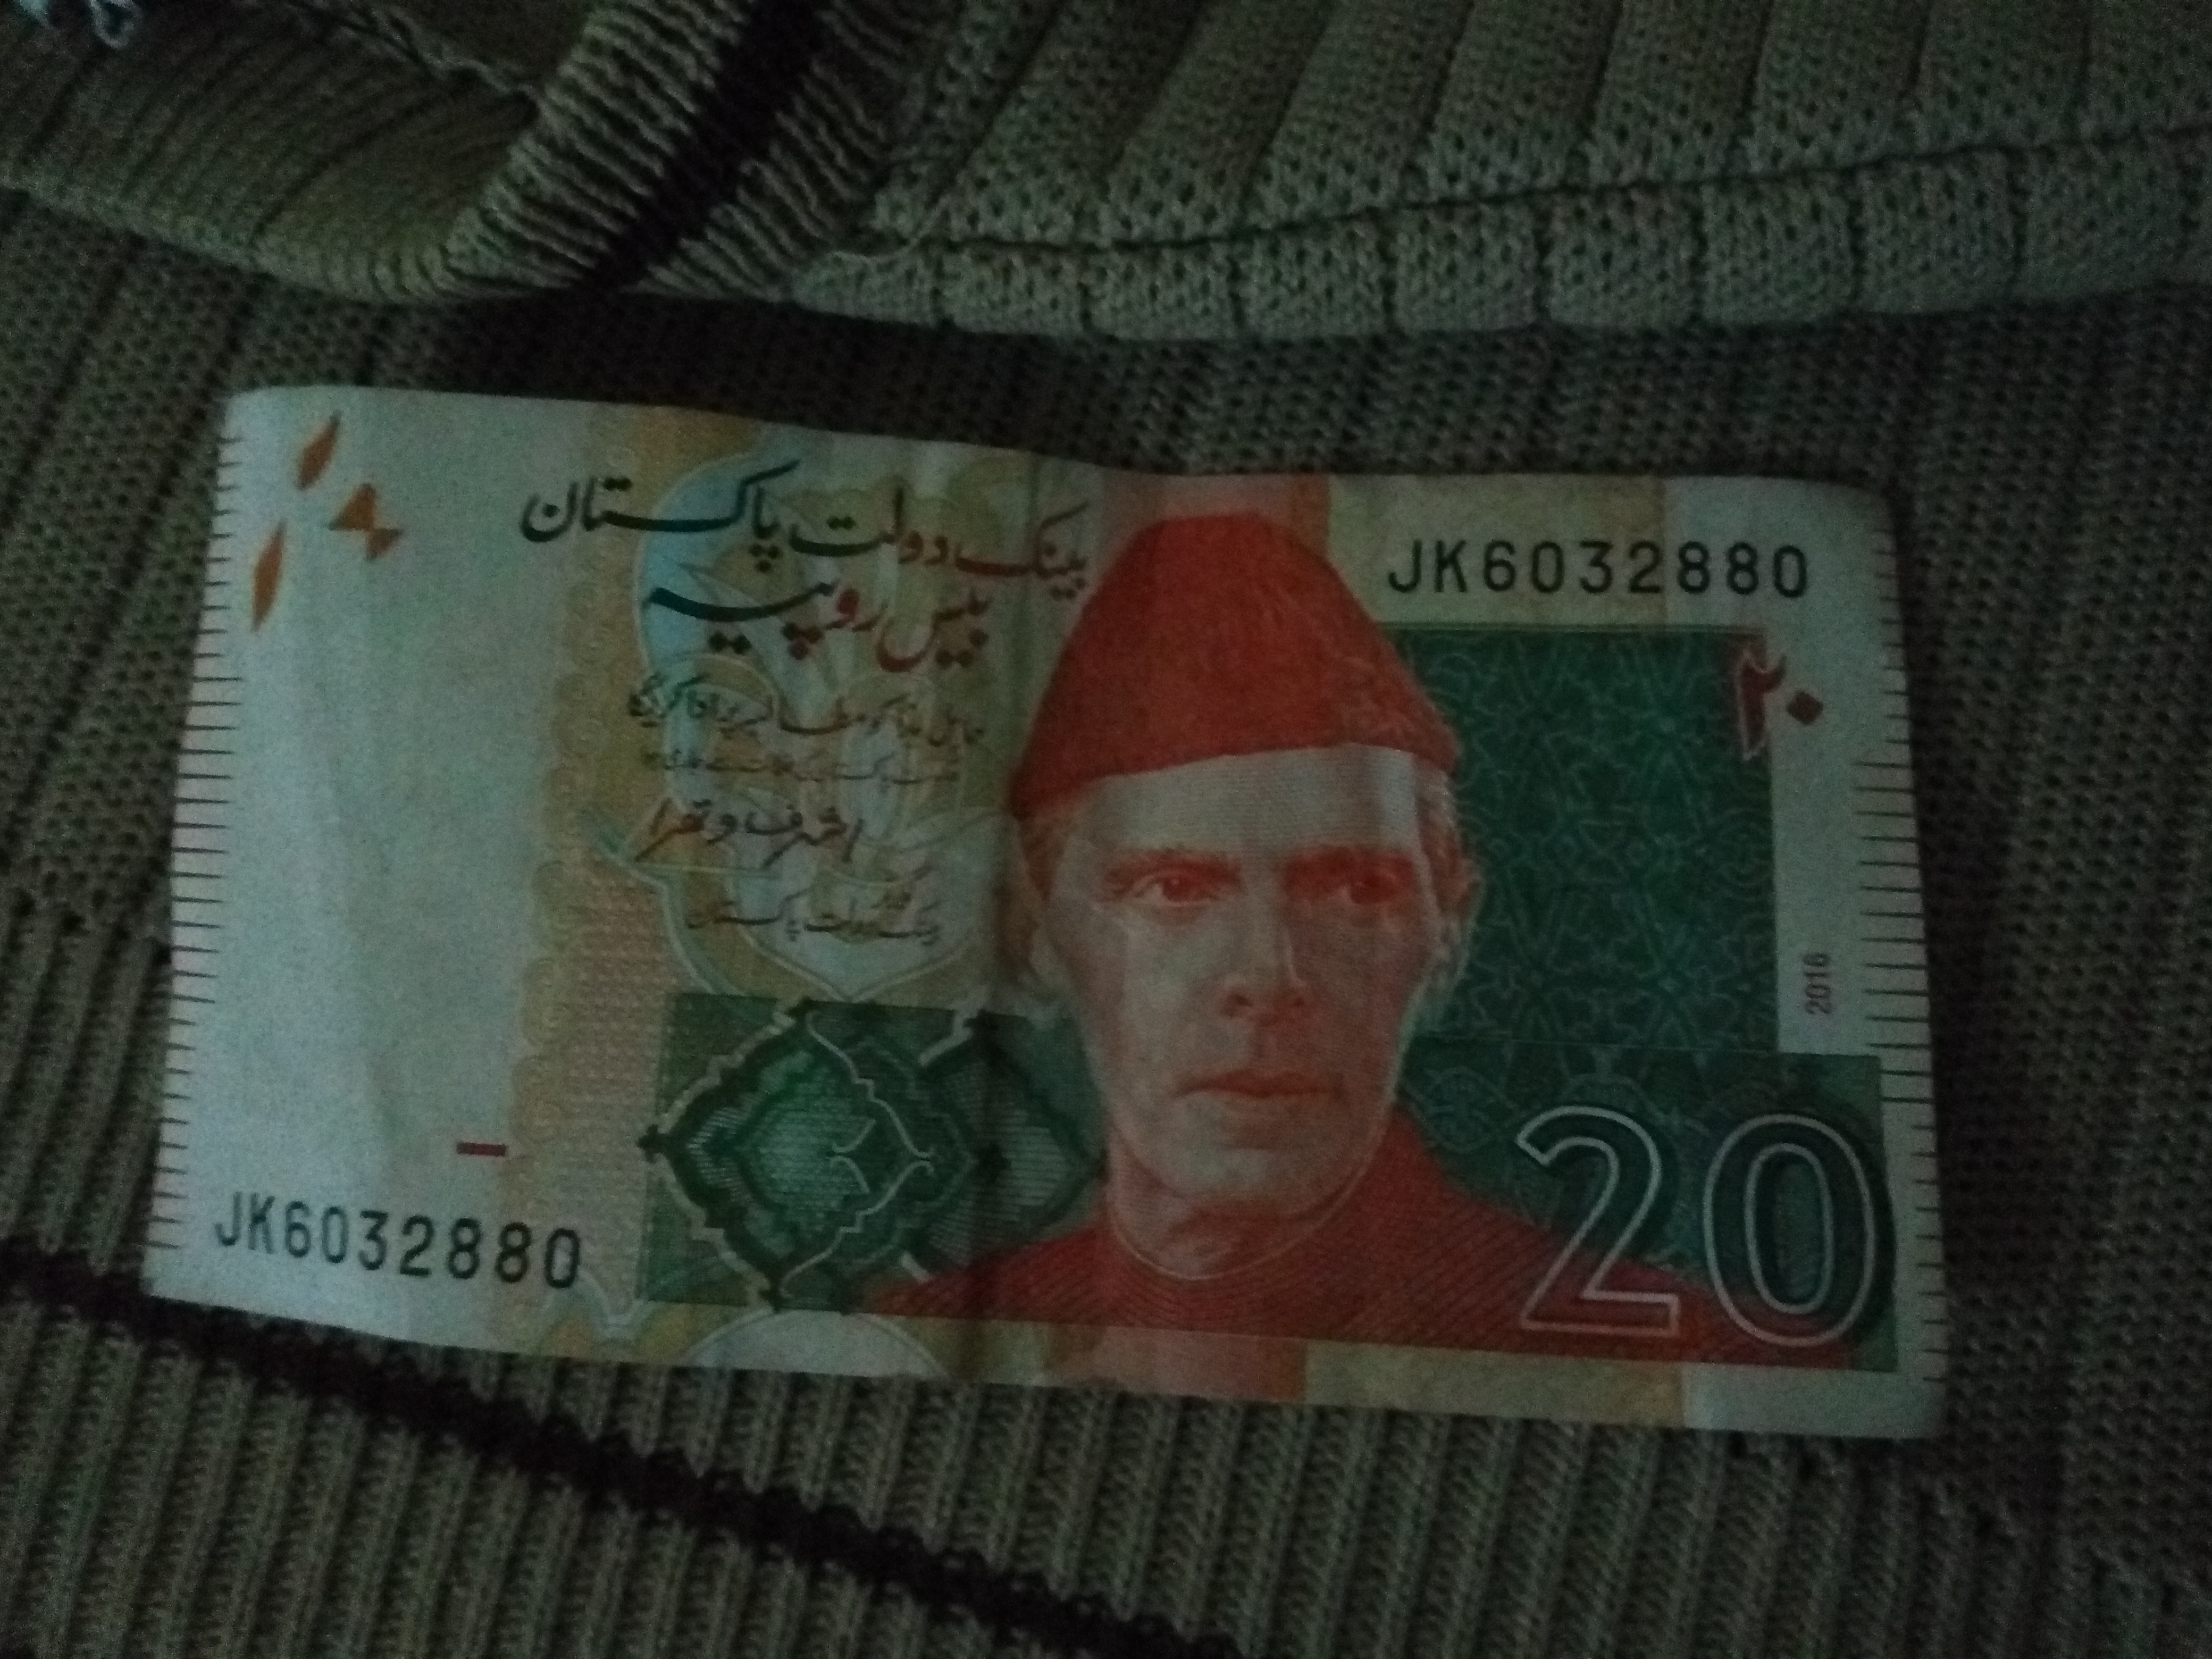20 rupee: (174, 336, 1970, 1408)
